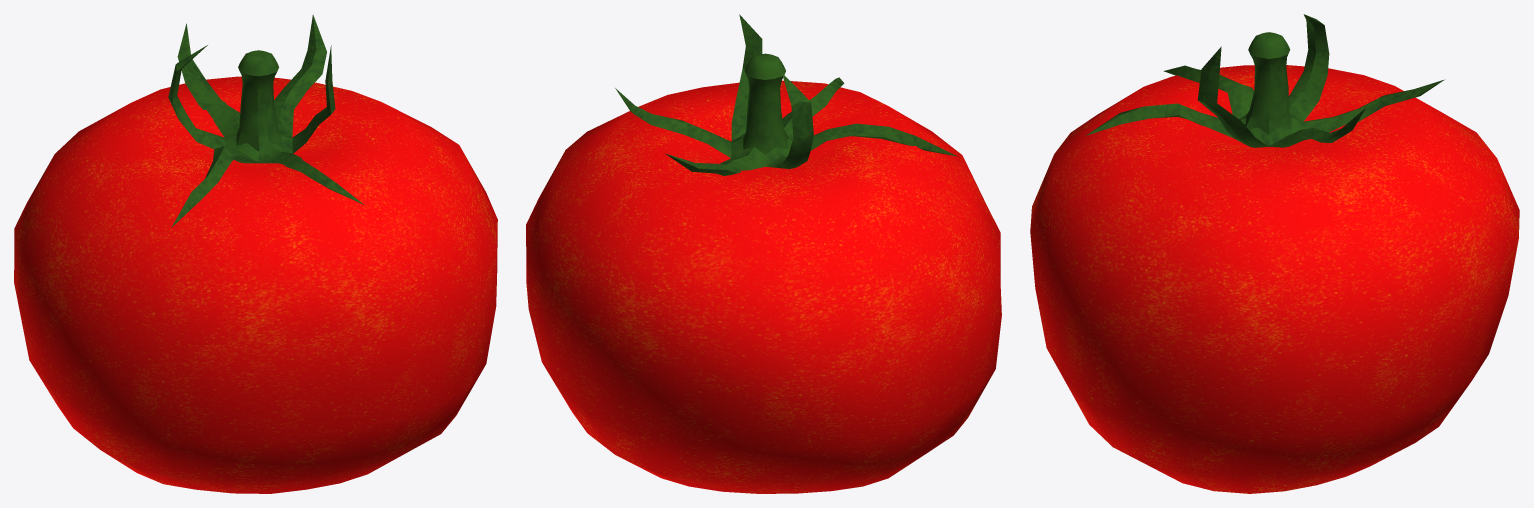
Rendered from tomato06.fbx.
3 renders of one model, left to right at view 1: azimuth 30°, elevation 25°; view 2: azimuth 150°, elevation 25°; view 3: azimuth 270°, elevation 25°, orthographic. The views are drawn at different scales.
Visible parts, largest first — view 1: Tomato06; view 2: Tomato06; view 3: Tomato06.
Part boxes in pixels (bbox=[...]): Tomato06: bbox=[14, 14, 497, 493]; Tomato06: bbox=[526, 14, 1001, 493]; Tomato06: bbox=[1030, 14, 1519, 493].
Size of the model in its own units: 7.06 by 6.94 by 6.98.
Materials: 1 (1 with a texture image).
